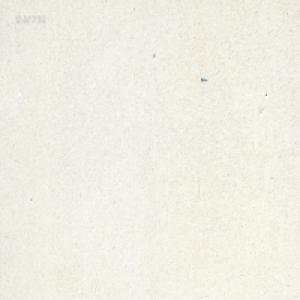Nail: (200, 76, 207, 82)
